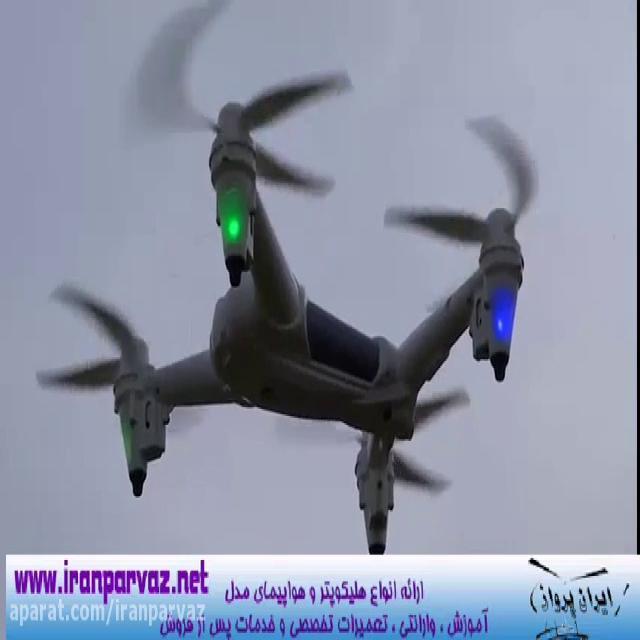drone: (30, 0, 544, 553)
